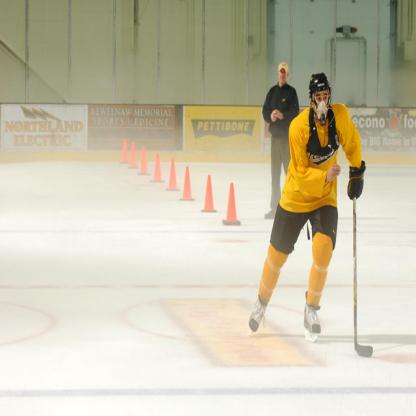face: (314, 88, 329, 116), (280, 67, 288, 83)
